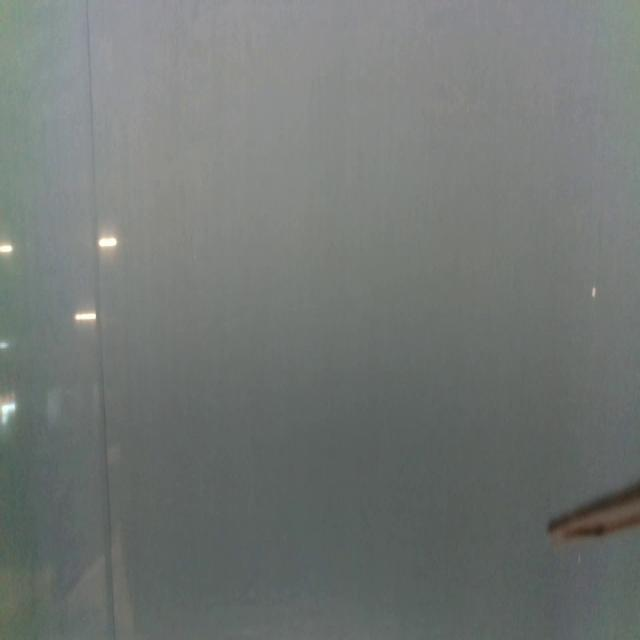crease: (84, 2, 116, 639)
hole: (591, 284, 598, 303)
